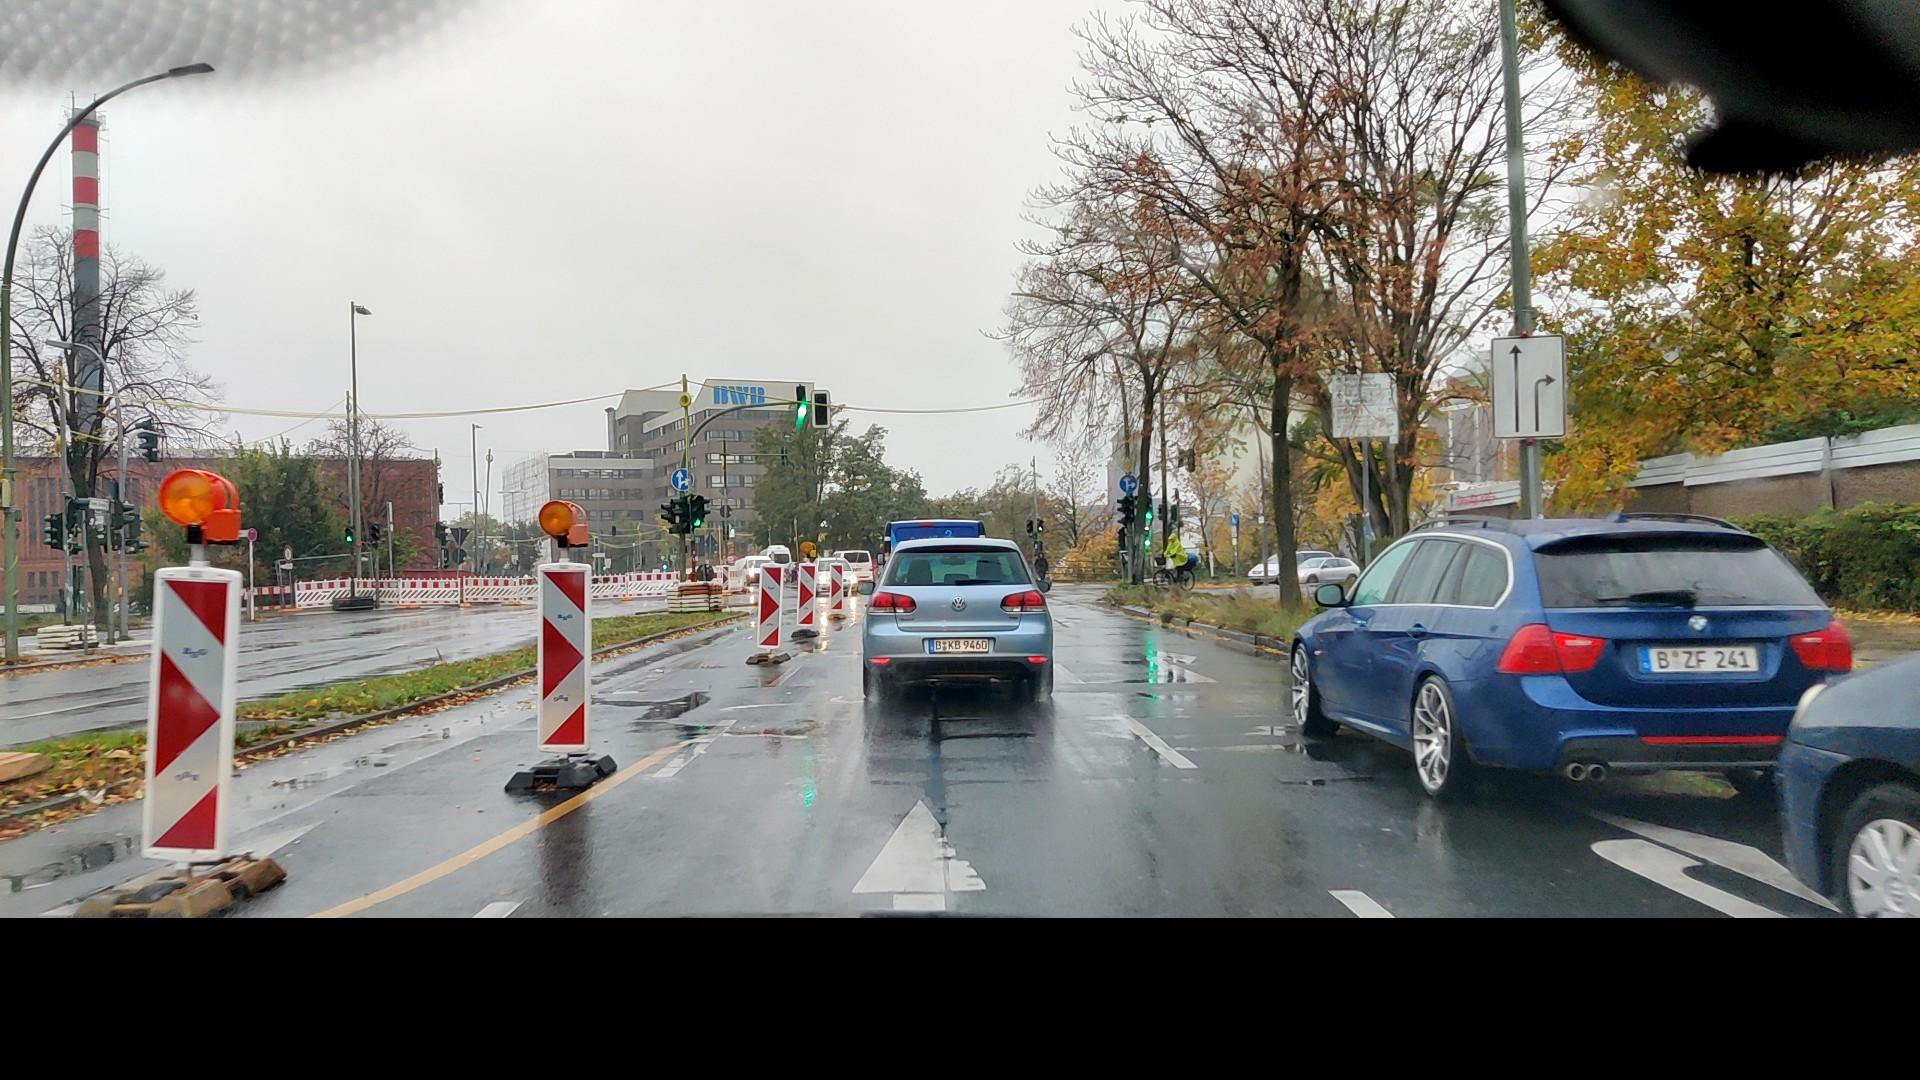Vehicle registration plate: (1637, 646, 1759, 673), (928, 639, 989, 653)
